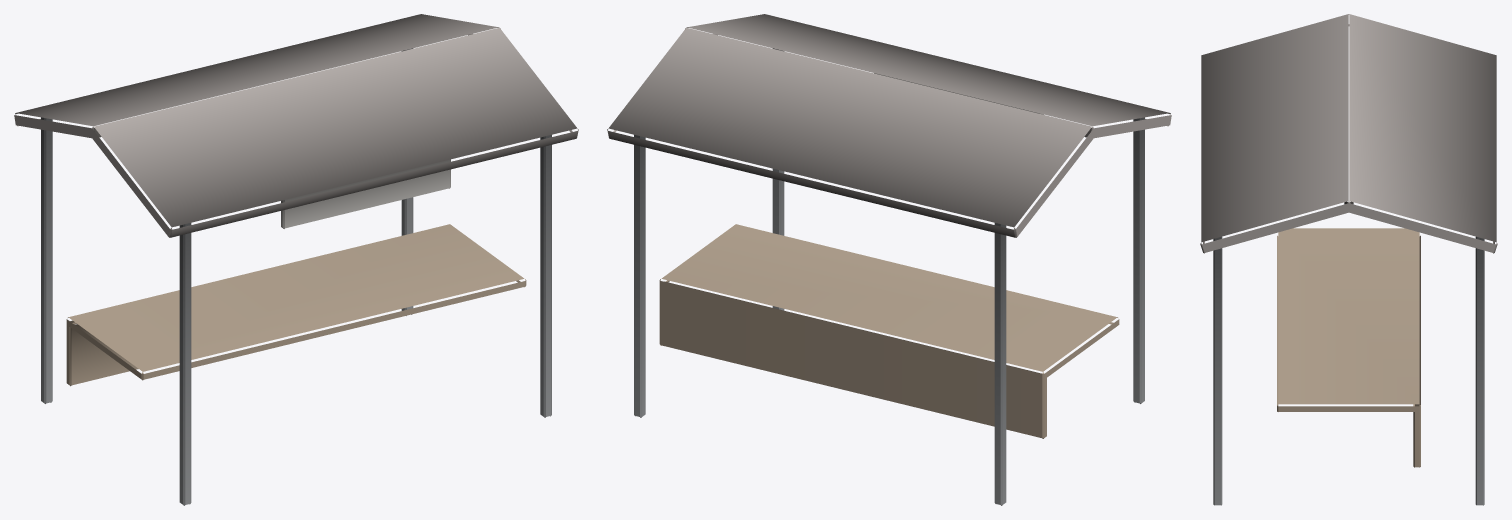
Rendered from market_stall.glb.
3 renders of one model, left to right at view 1: azimuth 30°, elevation 25°; view 2: azimuth 150°, elevation 25°; view 3: azimuth 270°, elevation 25°, orthographic. The views are drawn at different scales.
Visible parts, largest first — view 1: props_market_stall; view 2: props_market_stall; view 3: props_market_stall.
Part boxes in pixels (x1=…): props_market_stall: x1=14, y1=14, x2=578, y2=505; props_market_stall: x1=607, y1=14, x2=1171, y2=505; props_market_stall: x1=1200, y1=14, x2=1497, y2=505.
Size of the model in its own units: 3.4 by 2.64 by 2.27.
